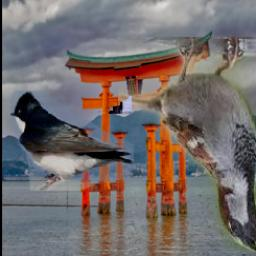Crow: (92, 0, 133, 115)
Sparrow: (118, 37, 256, 252)
Swallow: (10, 92, 134, 192)
